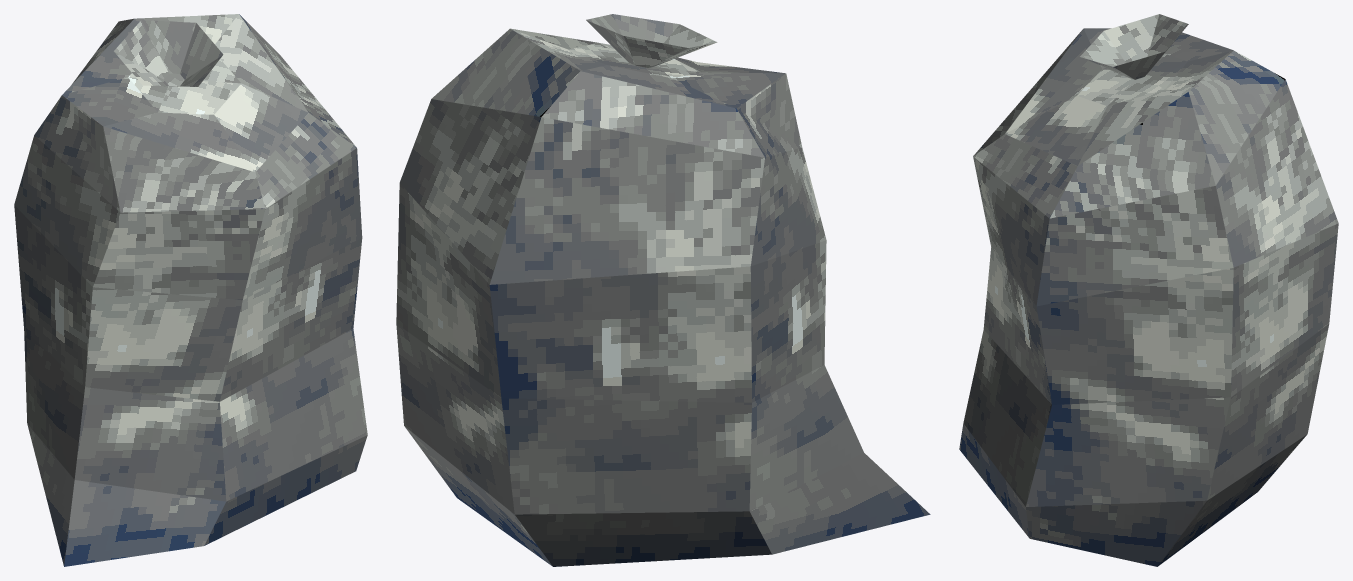
File: trashbag_2_white.glb
3 renders of one model, left to right at view 1: azimuth 30°, elevation 25°; view 2: azimuth 150°, elevation 25°; view 3: azimuth 270°, elevation 25°, orthographic. The views are drawn at different scales.
Parts seen in each view (by area): view 1: trashbag_2_white; view 2: trashbag_2_white; view 3: trashbag_2_white.
Boxes of the visible parts, x1,y1,x2,y2 form: trashbag_2_white: [14, 14, 367, 566]; trashbag_2_white: [396, 14, 930, 566]; trashbag_2_white: [959, 14, 1338, 566].
Size of the model in its own units: 0.8555 by 1.04 by 0.7744.
1 material, 1 textured.
